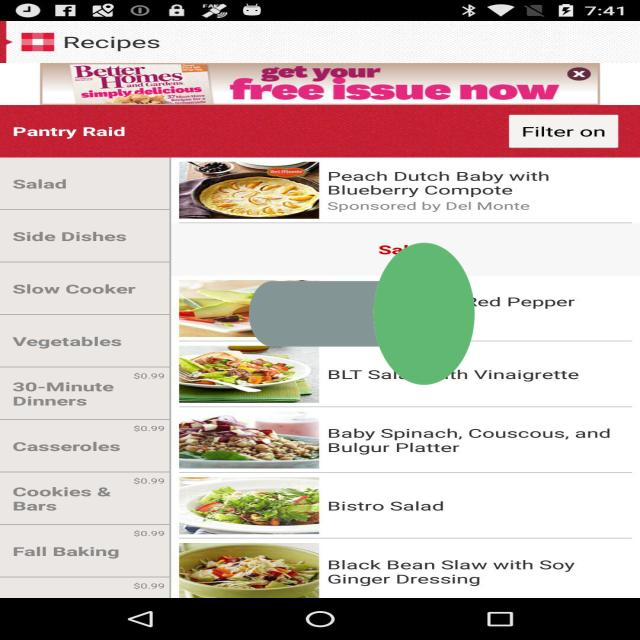social proof: (249, 156, 475, 472)
